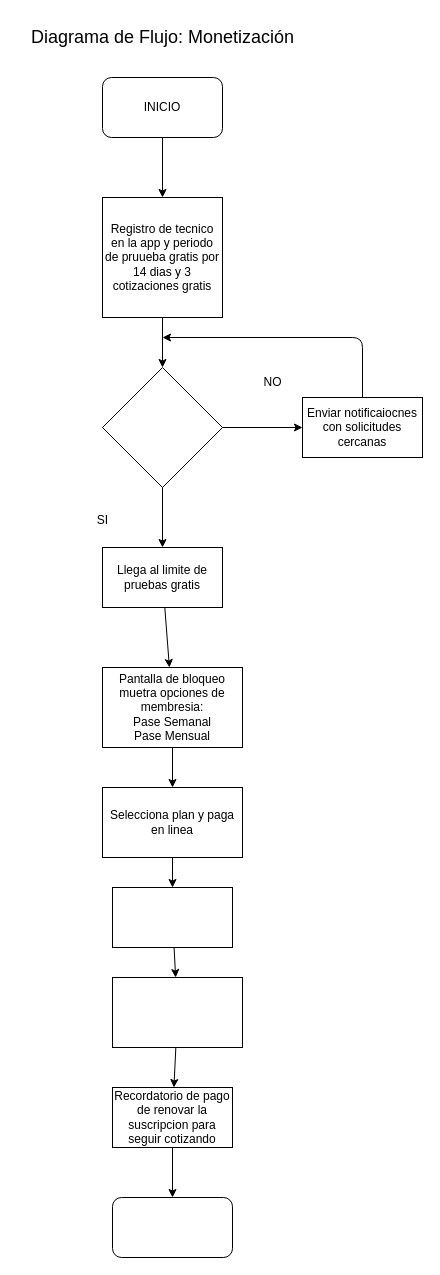
Image size: 440x1275. Some labels were removed from this diagram. The shapes that lost their labels are listed below. From the top down, each one's centre as x and y in pixels, then its label:
At (x=162, y=427): "Consiguio trabajos y vio valor en la app?".
At (x=172, y=917): "Pago procecado correctamente".
At (x=177, y=1012): "Sistema activa suscripcion, cuenta desbloqueada y acceso limitado a cotizar".
At (x=172, y=1227): "FIN".
